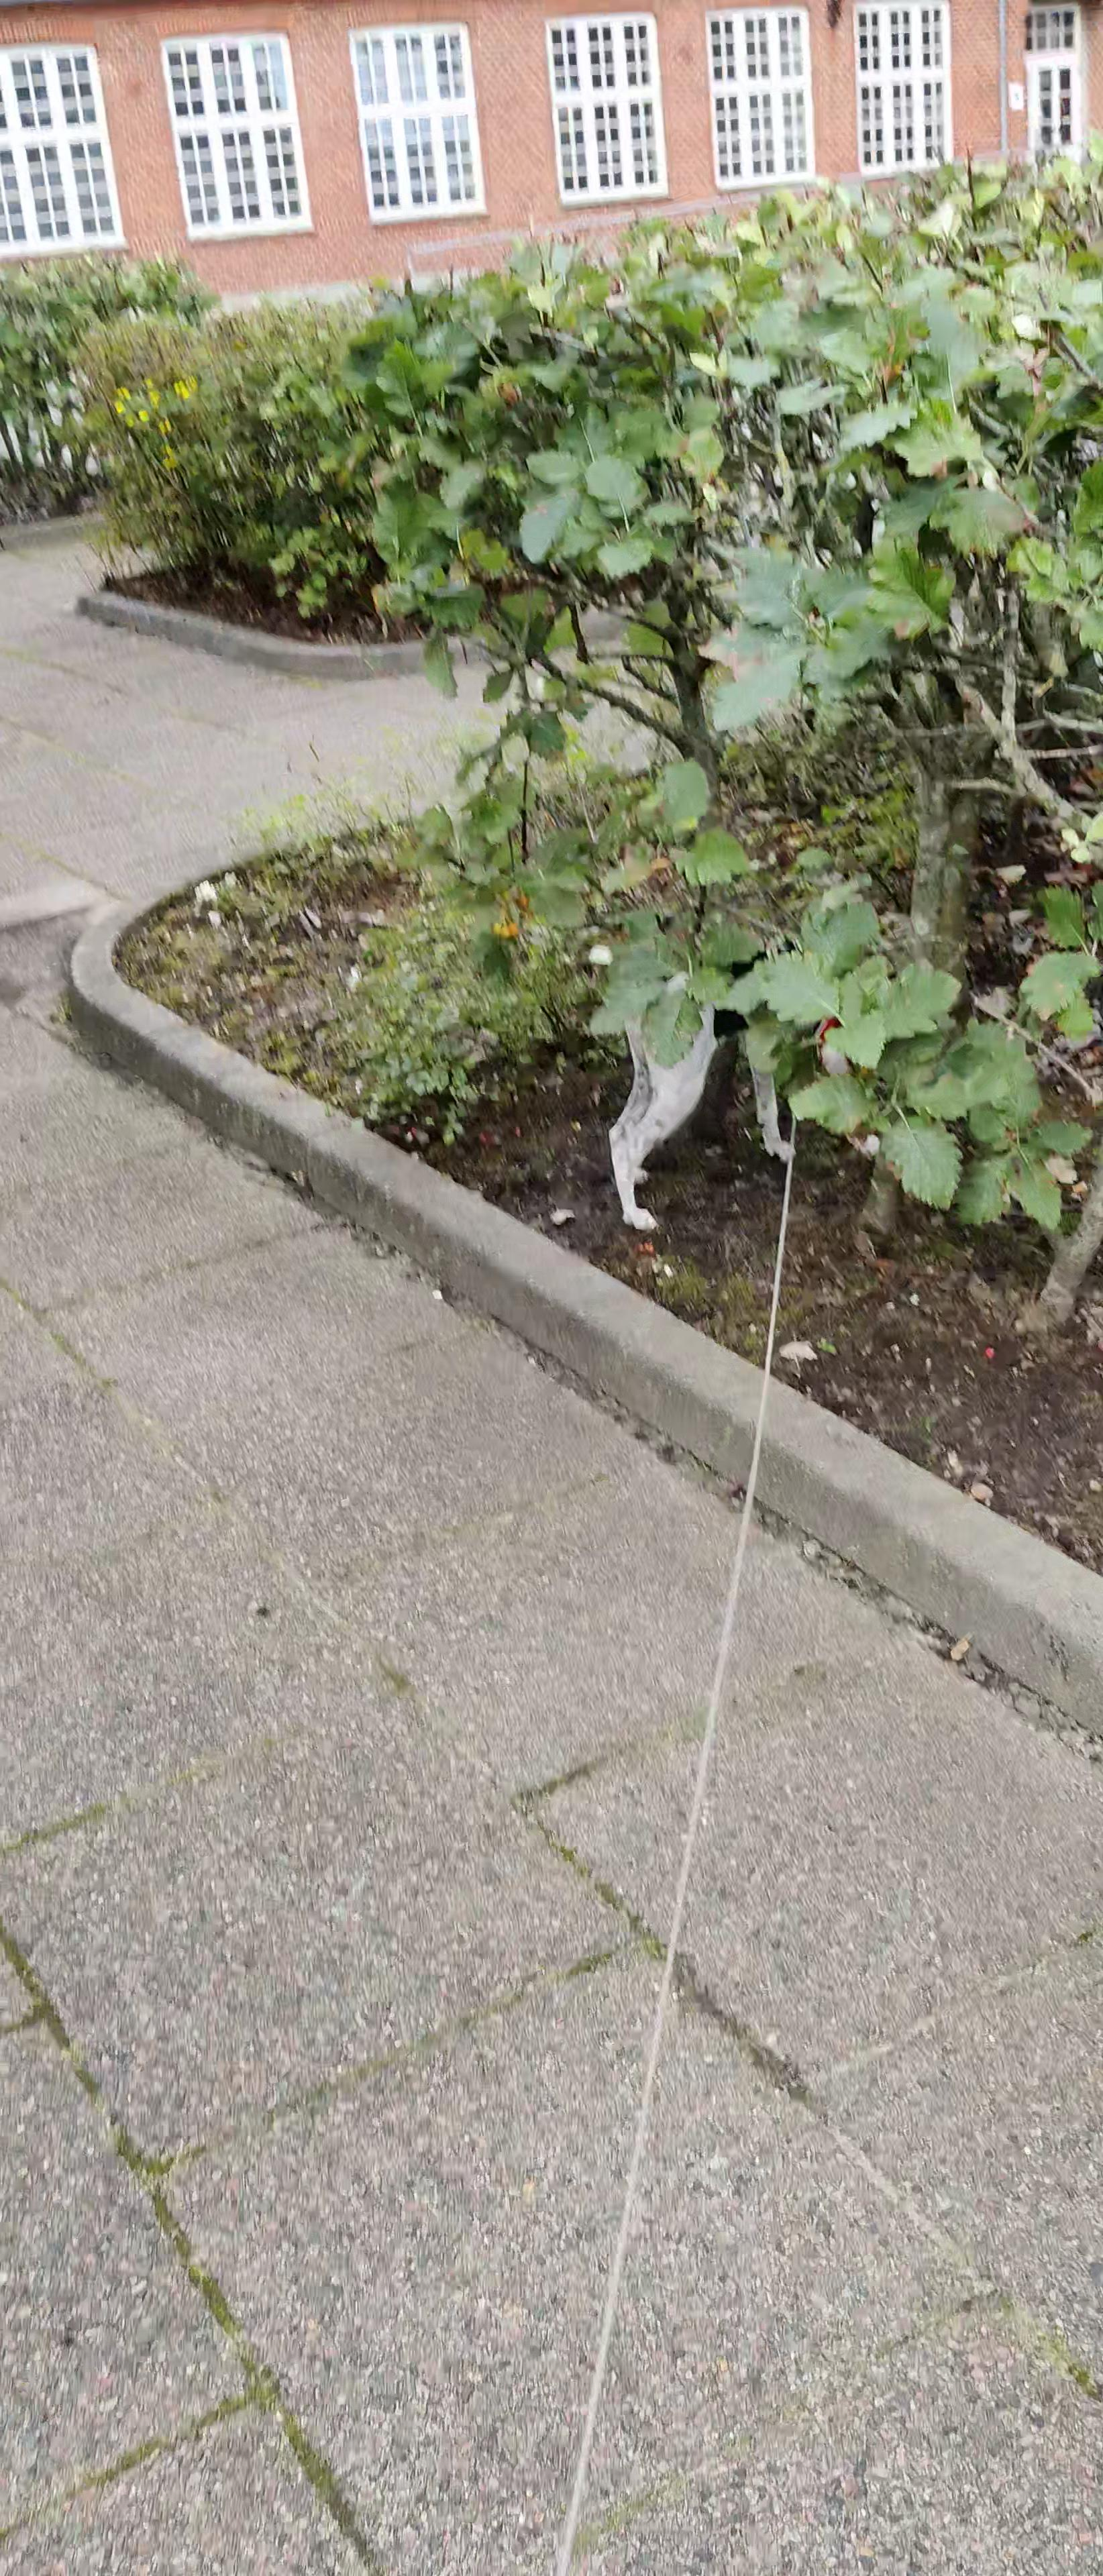Dog: (598, 922, 891, 1237)
